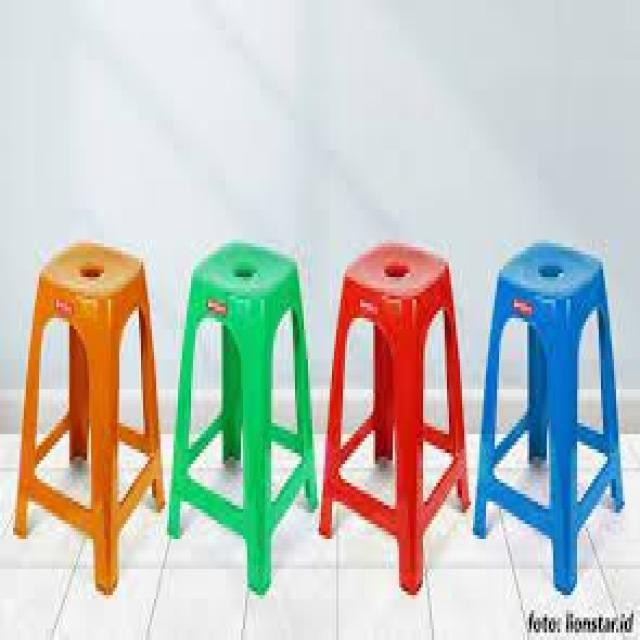chair: (312, 238, 478, 600), (9, 236, 164, 595), (473, 238, 626, 594), (168, 232, 316, 597)
